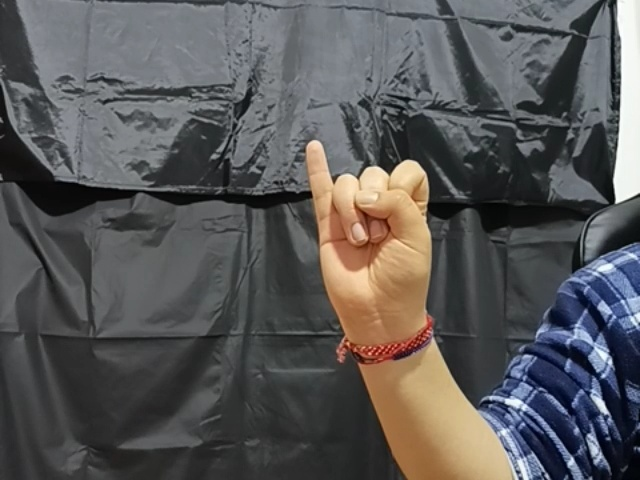I: (302, 142, 446, 338)
